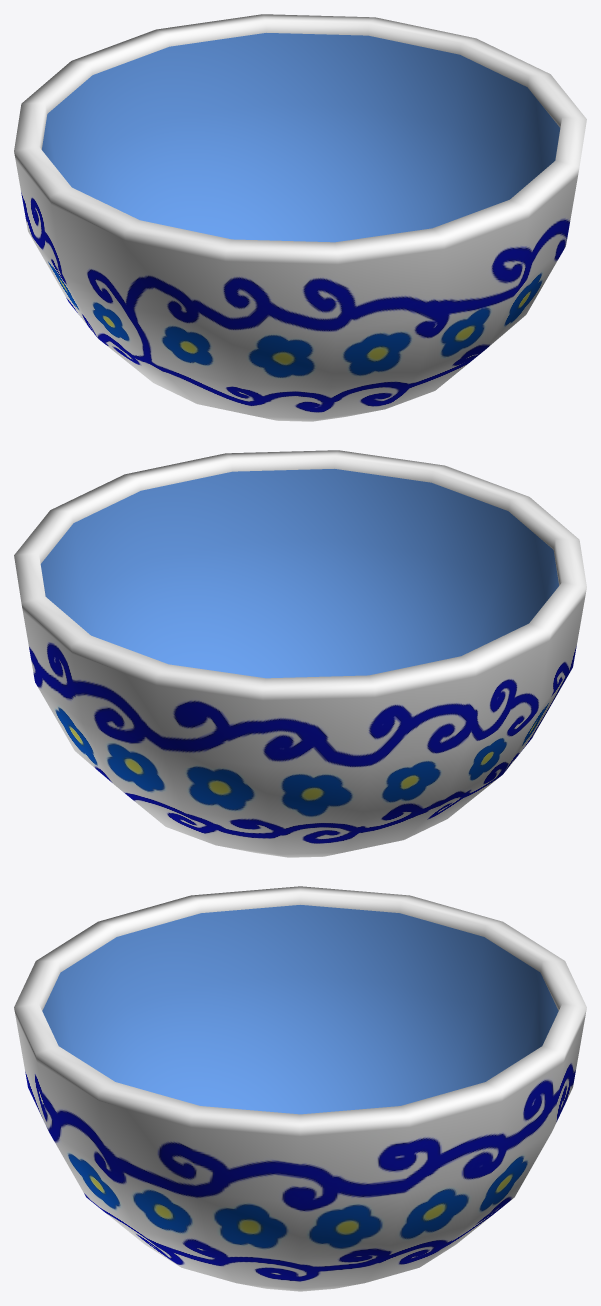
File: mala zdjelica fbx- negativni lik.fbx
3 views of the same model, one above another, from view 1: azimuth 30°, elevation 25°; view 2: azimuth 150°, elevation 25°; view 3: azimuth 270°, elevation 25° (orthographic).
Parts seen in each view (by area): view 1: mala zdjelica; view 2: mala zdjelica; view 3: mala zdjelica.
Part boxes in pixels (bbox=[...]): mala zdjelica: bbox=[14, 14, 586, 421]; mala zdjelica: bbox=[14, 450, 586, 857]; mala zdjelica: bbox=[14, 886, 586, 1291].
Bounding box in the file's own units: 35.68 × 17.21 × 35.68.
Materials: 1 (1 with a texture image).
